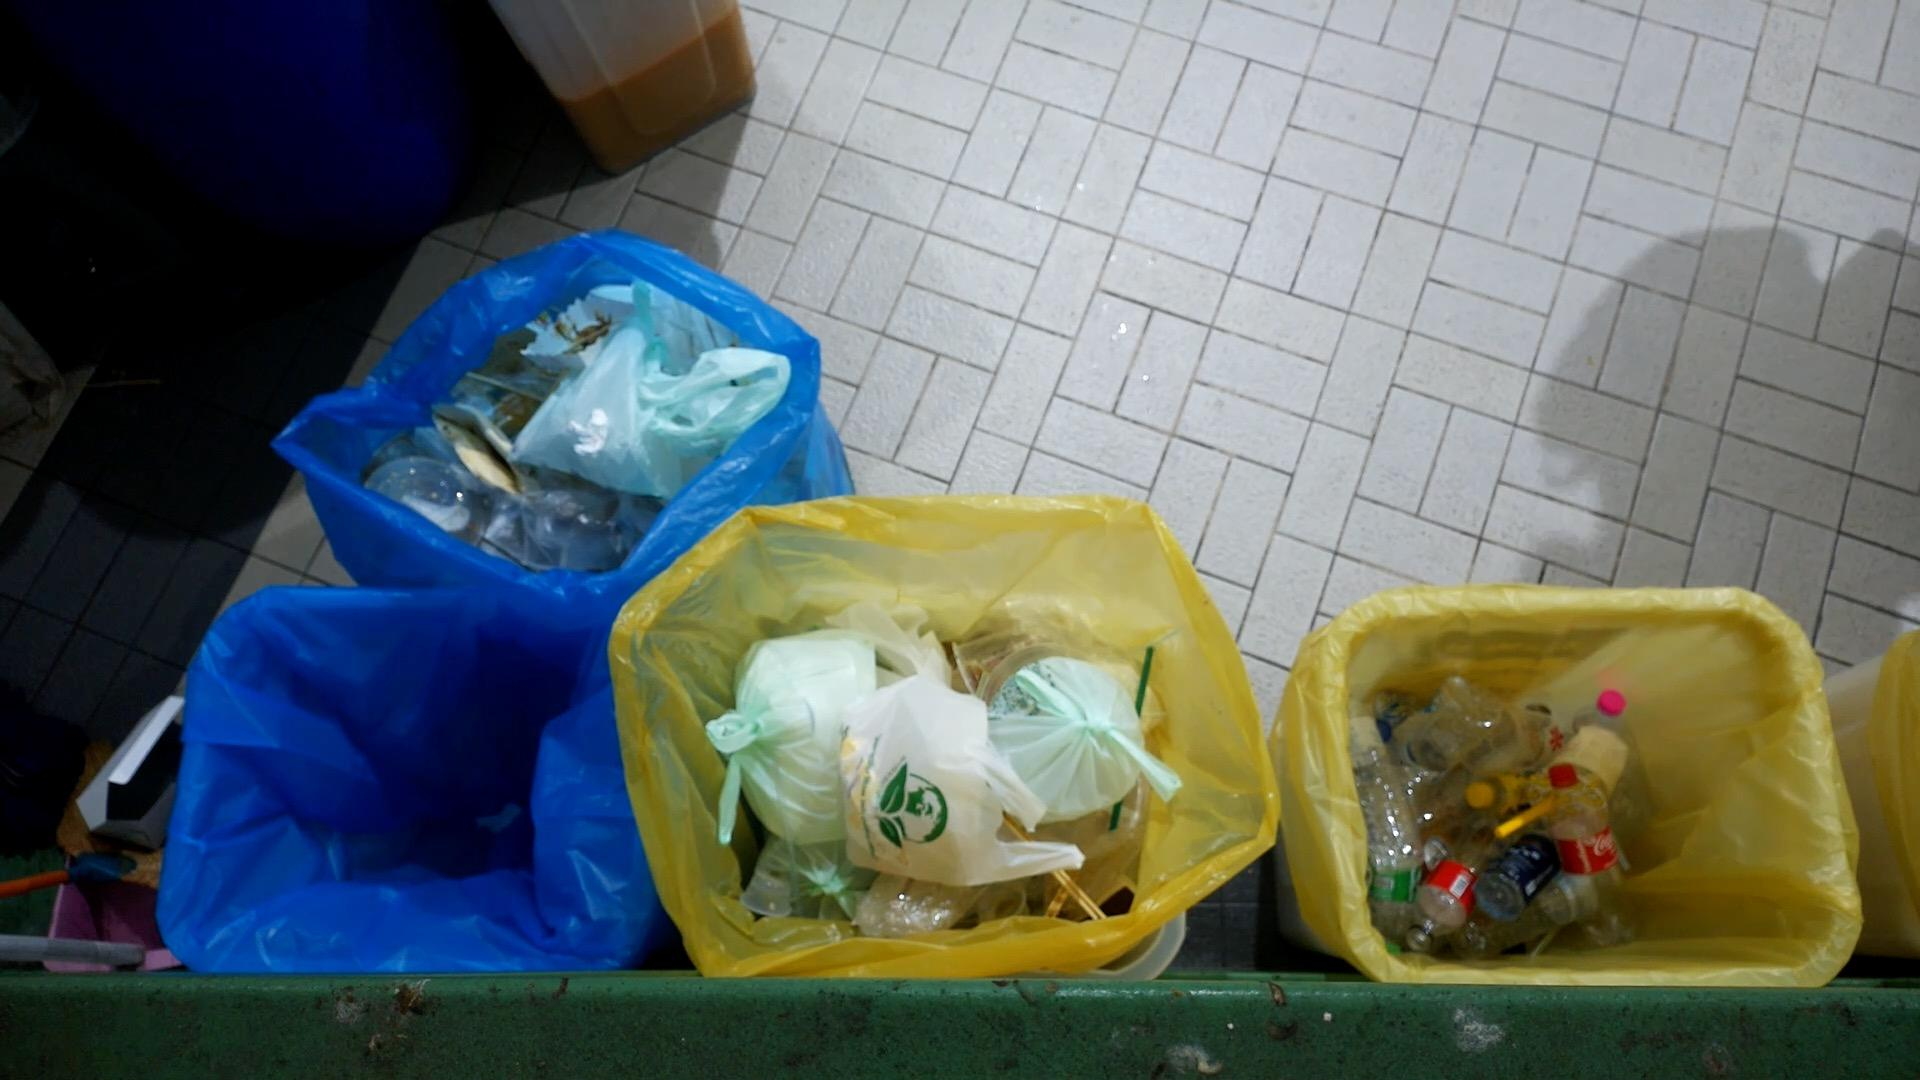can: (1478, 829, 1565, 909)
filled plastic bag: (843, 673, 1088, 887), (502, 282, 702, 502), (705, 634, 874, 844), (990, 654, 1180, 814)
plastic bag: (634, 314, 794, 477)
plastic bottle: (1545, 762, 1639, 948), (1456, 858, 1622, 951), (1342, 699, 1428, 876), (1389, 822, 1497, 956), (1391, 673, 1506, 793)
plastic cup: (1523, 717, 1629, 832)
sticks: (1000, 814, 1110, 924)
straw: (1106, 644, 1158, 833), (1494, 791, 1568, 839)
tissue paper: (566, 407, 609, 459)
